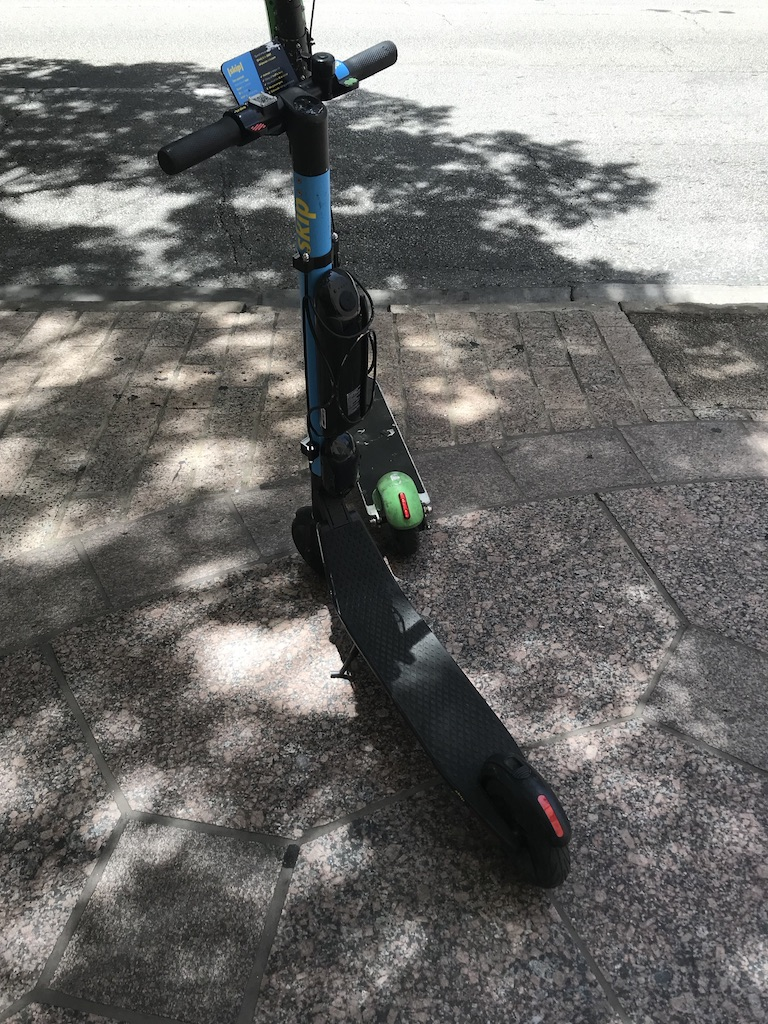scooter: (158, 38, 572, 890), (354, 379, 431, 558)
